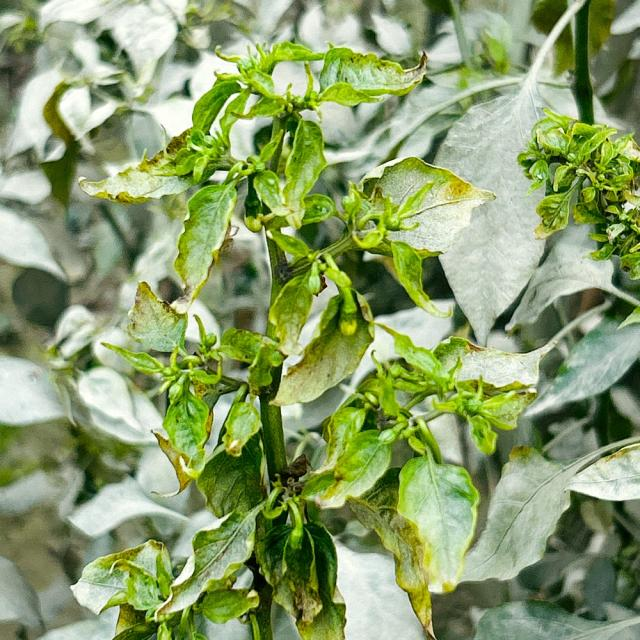Chilli_Leaf_Curl: (51, 10, 635, 638), (516, 106, 638, 280), (392, 450, 481, 594)
